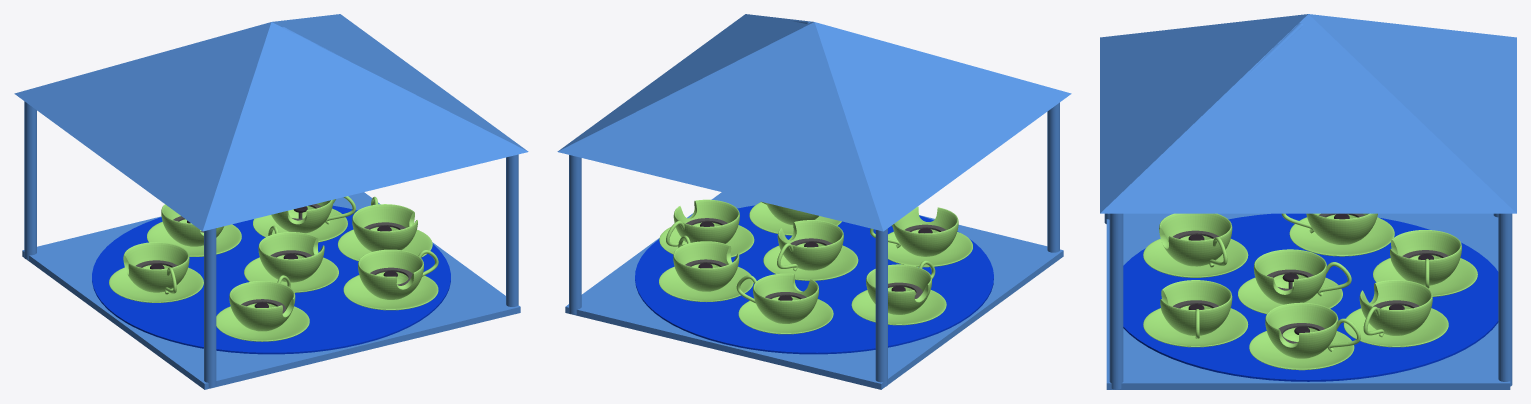
The model's file is TeaCups.fbx.
The picture shows the model from 3 angles, left to right: view 1: azimuth 30°, elevation 25°; view 2: azimuth 150°, elevation 25°; view 3: azimuth 270°, elevation 25°; orthographic projection. The views are drawn at different scales.
Parts seen in each view (by area): view 1: Teacup ride; view 2: Teacup ride; view 3: Teacup ride.
Boxes of the visible parts, x1,y1,x2,y2 form: Teacup ride: [14, 14, 528, 389]; Teacup ride: [557, 14, 1071, 389]; Teacup ride: [1100, 14, 1516, 389].
Size of the model in its own units: 2969 by 2283 by 2969.
